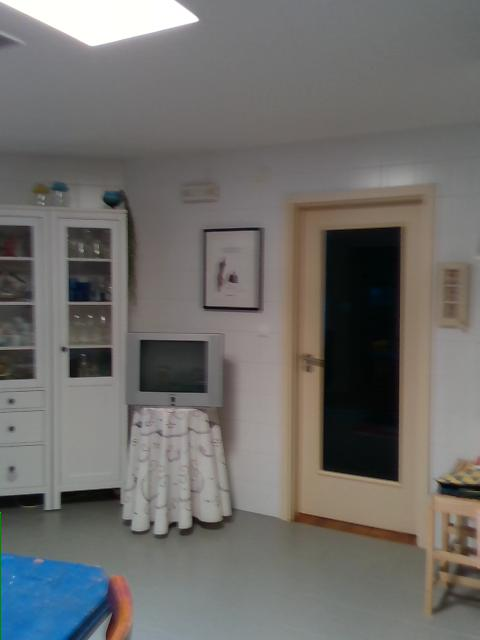door: (280, 182, 438, 549)
